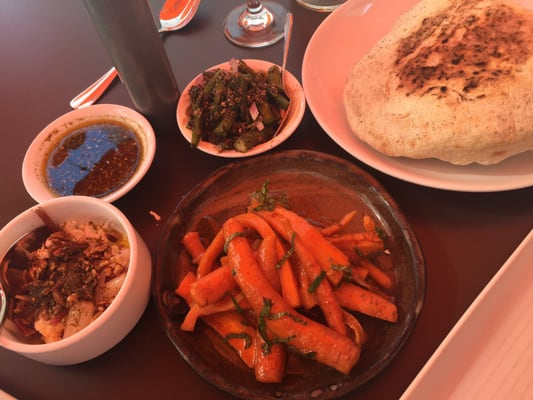sushi: (153, 149, 427, 398), (0, 195, 153, 367), (21, 102, 157, 207), (175, 58, 307, 160)
